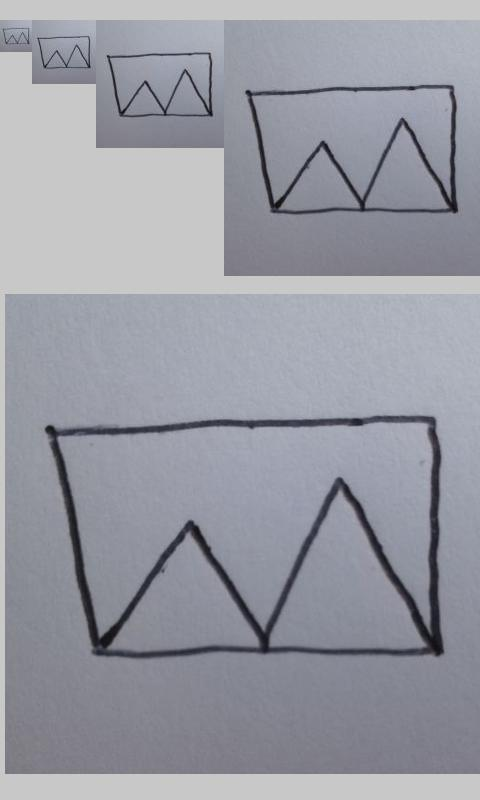image_view: (47, 413, 444, 663), (245, 83, 457, 217), (107, 52, 213, 117), (37, 35, 91, 69), (3, 27, 30, 45)
